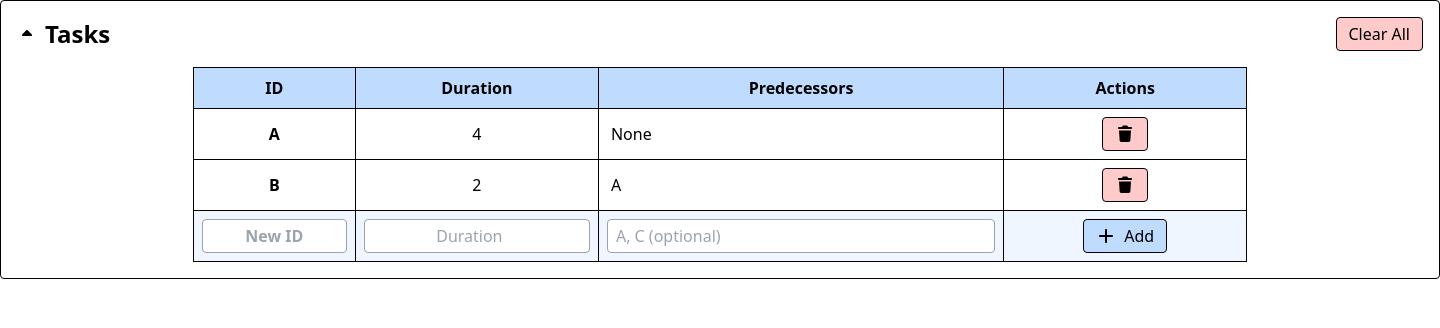
Test case: TaskTable › prevents removing a task that another task depends on
This screenshot has width=1440, height=328.
Click the button named "Remove task A" at [1125, 134], box [1102, 117, 1148, 151]
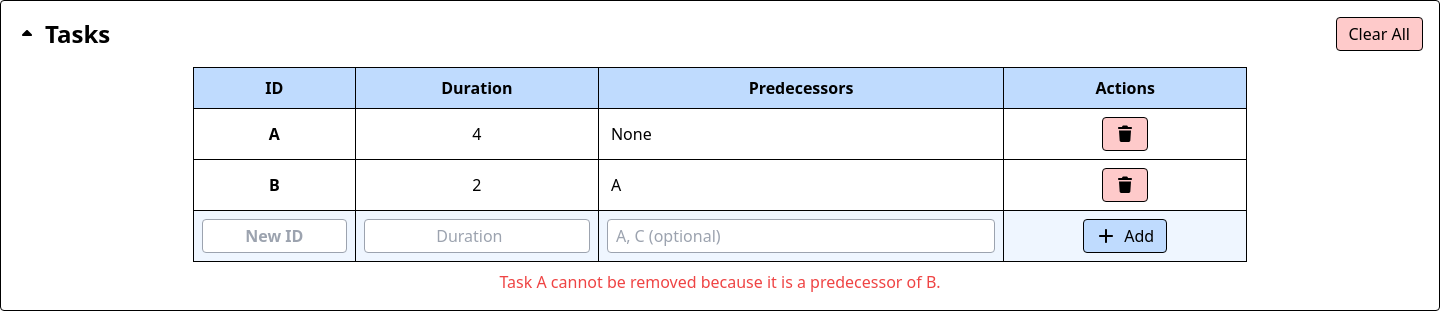
expect the text "A" is shown 2 times: met, box [193, 108, 355, 160]; [598, 160, 1004, 210]
expect the message reads "Task A cannot be removed because it is a predecessor of B.": met, box [500, 271, 940, 293]
